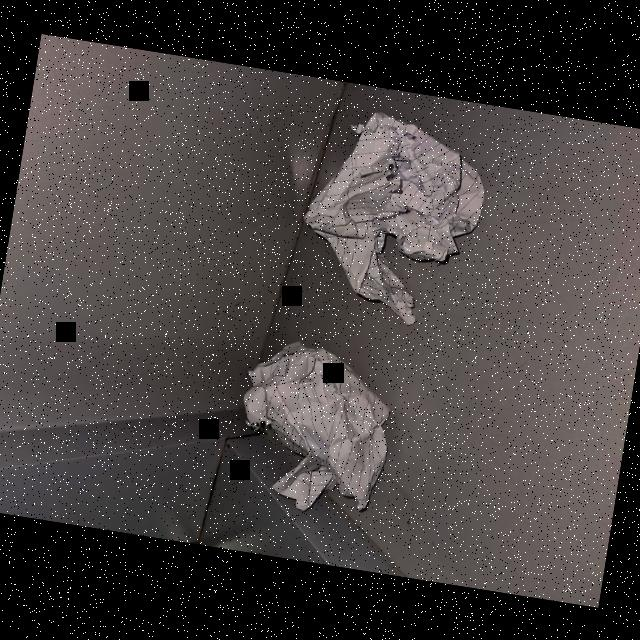scrap_paper: (294, 102, 500, 336), (220, 323, 413, 530)
